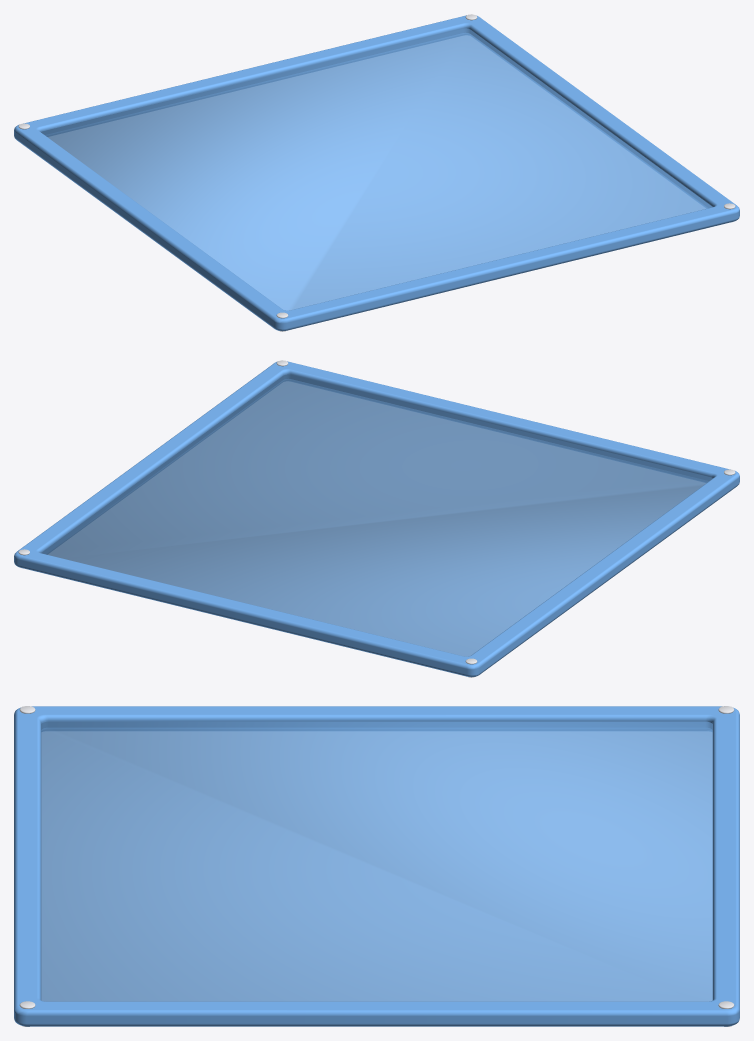
File: big.glb
The picture shows the model from 3 angles, top to bottom: view 1: azimuth 30°, elevation 25°; view 2: azimuth 150°, elevation 25°; view 3: azimuth 270°, elevation 25°; orthographic projection. The views are drawn at different scales.
Parts seen in each view (by area): view 1: Panel, Frame; view 2: Panel, Frame; view 3: Panel, Frame.
Part boxes in pixels (x1,y1,x2,y2): Panel: (41,28,712,310); Frame: (14,15,739,331); Panel: (41,374,712,656); Frame: (14,361,739,677); Panel: (41,721,712,1001); Frame: (14,706,739,1026).
Size of the model in its own units: 2 by 0.06 by 2.
